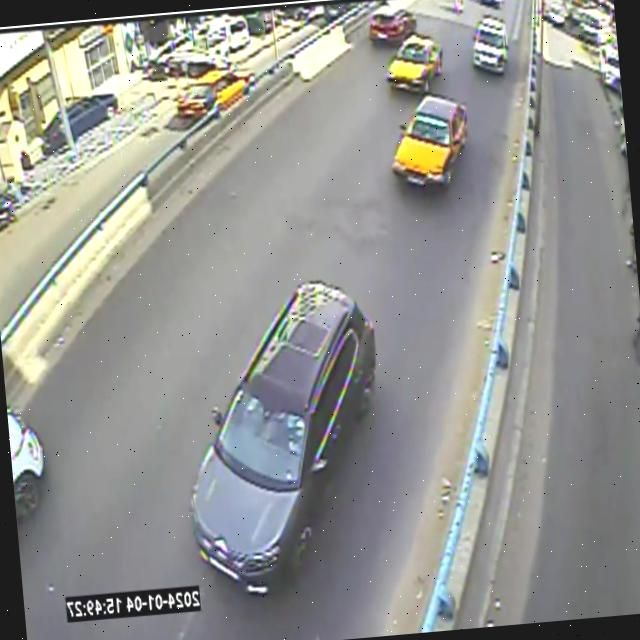car: (191, 280, 376, 591), (392, 96, 467, 184), (177, 65, 255, 118), (387, 32, 442, 91), (473, 15, 508, 72), (370, 5, 417, 43)
